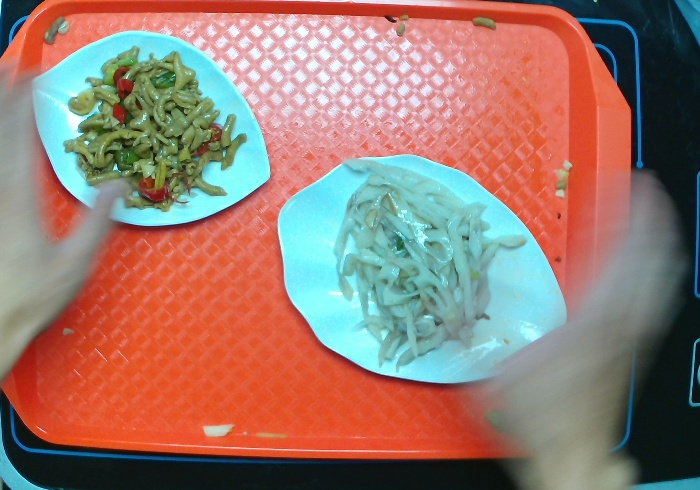RJxy-Bai_Ye_Pan: (271, 149, 580, 390)
RJxy-Da_Du_Pan: (28, 29, 275, 237)
